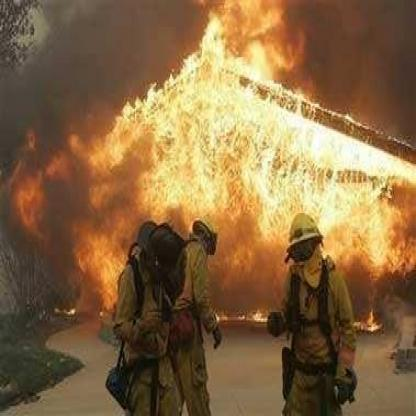fire: (109, 7, 411, 210), (328, 204, 414, 274), (70, 205, 127, 306), (216, 302, 269, 326), (359, 300, 383, 335)
smoke: (8, 14, 107, 127), (306, 15, 402, 103), (119, 16, 173, 73)
